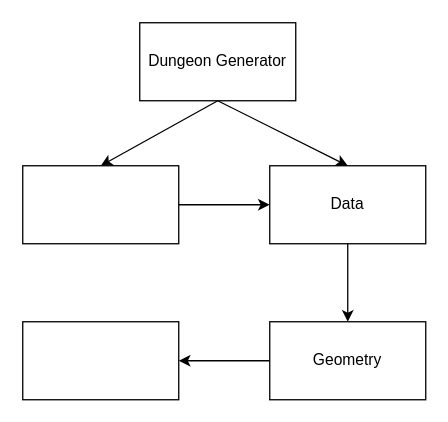
This 448x422 diagram has some shape labels left out. The shapes that lost their labels are listed below. From the top down, each one's centre as x and y in pixels, then its label:
At point (100, 204): "Generator".
At point (100, 360): "Math".
